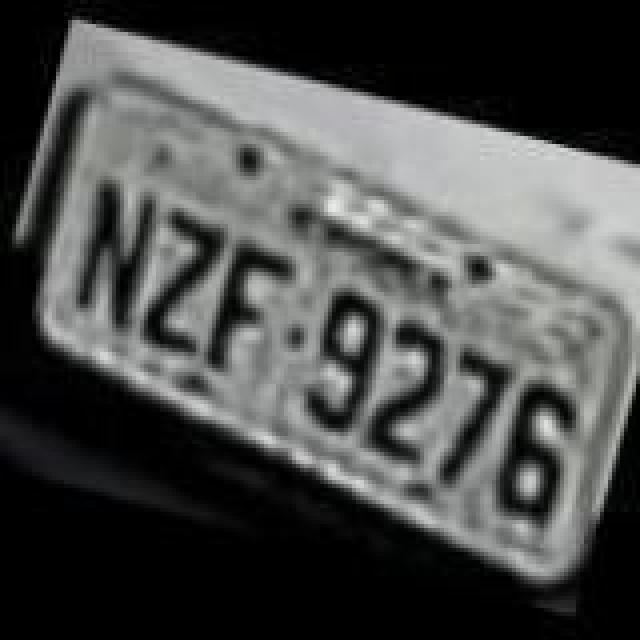2: (354, 316, 458, 468)
6: (482, 372, 586, 524)
7: (416, 346, 516, 502)
9: (288, 280, 392, 436)
F: (198, 236, 298, 380)
N: (62, 176, 166, 328)
Z: (130, 208, 230, 360)
